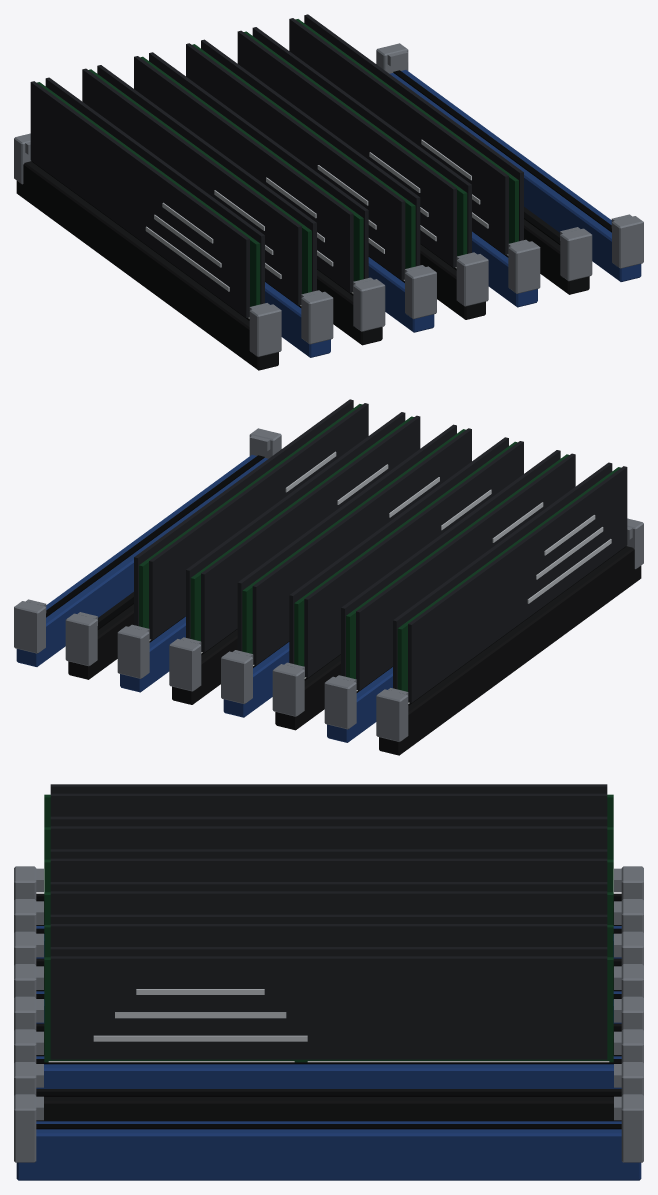
The model's file is hwm_ram_ddr4_16gb.glb.
3 views of the same model, one above another, from view 1: azimuth 30°, elevation 25°; view 2: azimuth 150°, elevation 25°; view 3: azimuth 270°, elevation 25° (orthographic). The views are drawn at different scales.
Visible parts, largest first — view 1: Slots, Stick_0, Stick_3, Stick_1, Stick_4, Stick_5, Stick_2, Latch_4_1, Latch_5_1, Latch_0_1, Latch_1_1, Latch_2_1 (+5 smaller); view 2: Slots, Stick_0, Stick_3, Stick_1, Stick_4, Stick_5, Stick_2, Latch_4_0, Latch_5_0, Latch_0_0, Latch_1_0, Latch_2_0 (+5 smaller); view 3: Slots, Stick_5, Stick_1, Stick_0, Stick_2, Stick_3, Stick_4, Latch_7_0, Latch_7_1, Latch_4_0, Latch_4_1, Latch_2_0 (+11 smaller).
Part boxes in pixels (x1,y1,x2,y2): Slots: (16, 70, 641, 370); Stick_0: (30, 77, 264, 318); Stick_3: (186, 39, 420, 280); Stick_1: (82, 65, 316, 305); Stick_4: (237, 27, 471, 268); Stick_5: (289, 14, 523, 255); Stick_2: (134, 52, 368, 293); Latch_4_1: (456, 252, 488, 306); Latch_5_1: (508, 239, 540, 293); Latch_0_1: (249, 303, 281, 356); Latch_1_1: (301, 290, 333, 344); Latch_2_1: (353, 277, 385, 331); Slots: (16, 455, 641, 755); Stick_0: (393, 462, 627, 703); Stick_3: (237, 424, 471, 665); Stick_1: (341, 450, 575, 690); Stick_4: (186, 412, 420, 653); Stick_5: (134, 399, 368, 640); Stick_2: (289, 437, 523, 678); Latch_4_0: (169, 637, 201, 691); Latch_5_0: (117, 624, 149, 678); Latch_0_0: (376, 688, 408, 741); Latch_1_0: (324, 675, 356, 729); Latch_2_0: (272, 662, 304, 716); Slots: (16, 893, 641, 1180); Stick_5: (44, 947, 613, 1062); Stick_1: (44, 816, 613, 859); Stick_0: (44, 784, 613, 827); Stick_2: (44, 849, 613, 892); Stick_3: (44, 882, 613, 924); Stick_4: (44, 914, 613, 957); Latch_7_0: (614, 1094, 643, 1162); Latch_7_1: (14, 1094, 43, 1162); Latch_4_0: (614, 996, 643, 1030); Latch_4_1: (14, 996, 43, 1030); Latch_2_0: (614, 931, 643, 965).
Bounding box in the file's own units: 0.1346 × 0.0404 × 0.1472.
